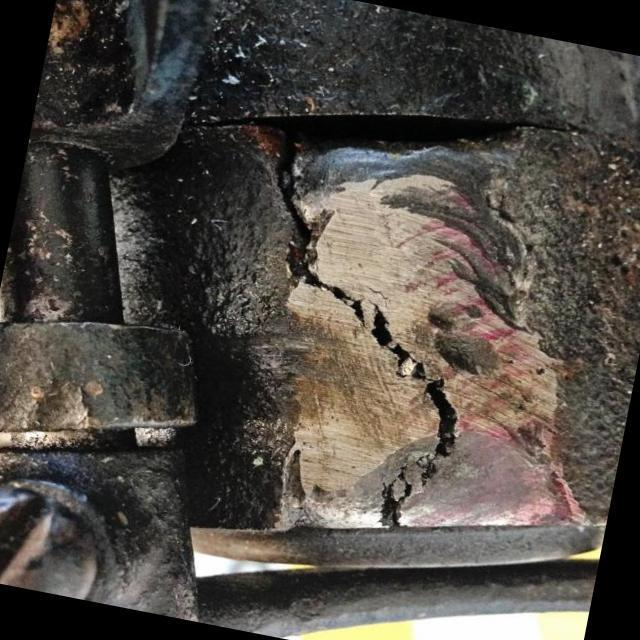defect: (265, 122, 473, 543)
